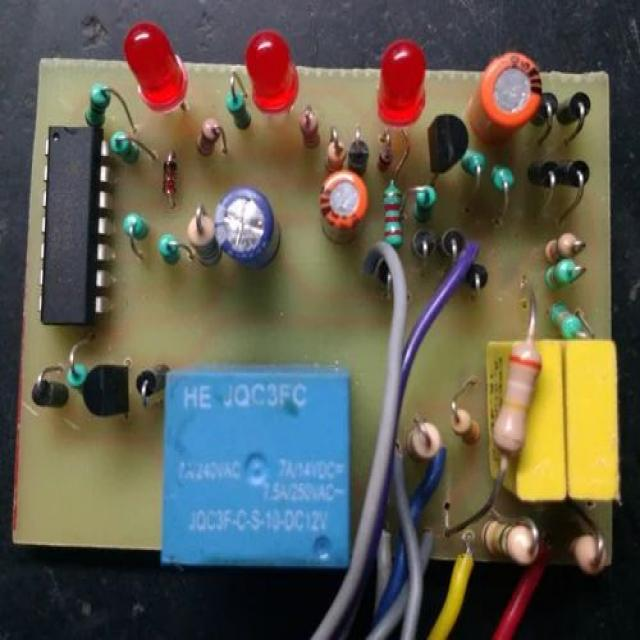pcb: (10, 40, 618, 574), (397, 331, 622, 571), (159, 362, 352, 569), (484, 334, 621, 505), (37, 122, 114, 326)
